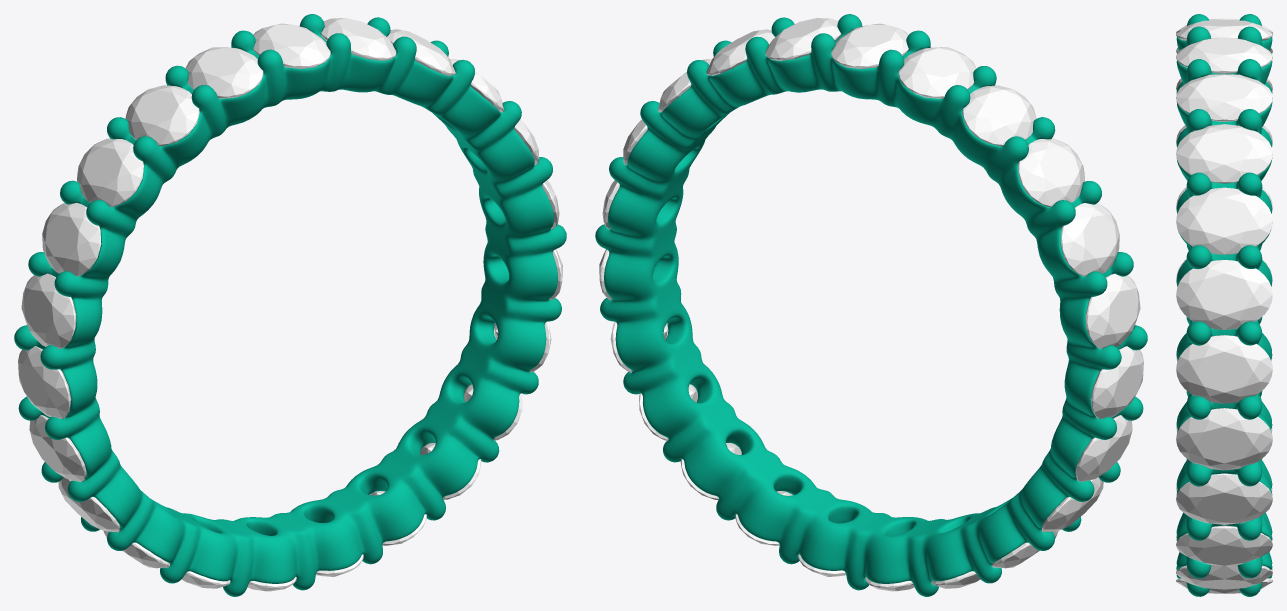
Rendered from BE2DOV200ELC_RENDER.glb.
The picture shows the model from 3 angles, left to right: view 1: azimuth 30°, elevation 25°; view 2: azimuth 150°, elevation 25°; view 3: azimuth 270°, elevation 25°; orthographic projection. The views are drawn at different scales.
Parts seen in each view (by area): view 1: Metal03, Diamond_Oval_Gem_BD.019, Diamond_Oval_Gem_BD.018, Diamond_Oval_Gem_BD.020, Diamond_Oval_Gem_BD.017, Diamond_Oval_Gem_BD.021, Diamond_Oval_Gem_BD.016, Diamond_Oval_Gem_BD.022, Diamond_Oval_Gem_BD.015, Diamond_Oval_Gem_BD, Diamond_Oval_Gem_BD.014, Diamond_Oval_Gem_BD.001; view 2: Metal03, Diamond_Oval_Gem_BD.019, Diamond_Oval_Gem_BD.018, Diamond_Oval_Gem_BD.020, Diamond_Oval_Gem_BD.017, Diamond_Oval_Gem_BD.021, Diamond_Oval_Gem_BD.016, Diamond_Oval_Gem_BD.022, Diamond_Oval_Gem_BD.015, Diamond_Oval_Gem_BD, Diamond_Oval_Gem_BD.014, Diamond_Oval_Gem_BD.001; view 3: Metal03, Diamond_Oval_Gem_BD.003, Diamond_Oval_Gem_BD.004, Diamond_Oval_Gem_BD.002, Diamond_Oval_Gem_BD.005, Diamond_Oval_Gem_BD.001, Diamond_Oval_Gem_BD.006, Diamond_Oval_Gem_BD, Diamond_Oval_Gem_BD.007, Diamond_Oval_Gem_BD.022, Diamond_Oval_Gem_BD.008, Diamond_Oval_Gem_BD.021 (+1 smaller).
Boxes of the visible parts, left/top/right/bottom form: Metal03: left=14, top=14, right=566, bottom=596; Diamond_Oval_Gem_BD.019: left=77, top=138, right=143, bottom=207; Diamond_Oval_Gem_BD.018: left=42, top=203, right=101, bottom=276; Diamond_Oval_Gem_BD.020: left=125, top=85, right=199, bottom=146; Diamond_Oval_Gem_BD.017: left=21, top=273, right=76, bottom=348; Diamond_Oval_Gem_BD.021: left=185, top=47, right=263, bottom=98; Diamond_Oval_Gem_BD.016: left=18, top=346, right=71, bottom=418; Diamond_Oval_Gem_BD.022: left=253, top=23, right=330, bottom=68; Diamond_Oval_Gem_BD.015: left=29, top=415, right=86, bottom=481; Diamond_Oval_Gem_BD: left=321, top=18, right=396, bottom=60; Diamond_Oval_Gem_BD.014: left=58, top=477, right=120, bottom=532; Diamond_Oval_Gem_BD.001: left=387, top=29, right=455, bottom=75; Metal03: left=595, top=14, right=1147, bottom=596; Diamond_Oval_Gem_BD.019: left=1018, top=138, right=1084, bottom=207; Diamond_Oval_Gem_BD.018: left=1061, top=203, right=1119, bottom=276; Diamond_Oval_Gem_BD.020: left=962, top=85, right=1036, bottom=146; Diamond_Oval_Gem_BD.017: left=1085, top=273, right=1140, bottom=348; Diamond_Oval_Gem_BD.021: left=898, top=47, right=976, bottom=98; Diamond_Oval_Gem_BD.016: left=1090, top=346, right=1143, bottom=418; Diamond_Oval_Gem_BD.022: left=831, top=23, right=908, bottom=68; Diamond_Oval_Gem_BD.015: left=1075, top=415, right=1132, bottom=481; Diamond_Oval_Gem_BD: left=765, top=18, right=841, bottom=60; Diamond_Oval_Gem_BD.014: left=1041, top=477, right=1103, bottom=532; Diamond_Oval_Gem_BD.001: left=706, top=29, right=774, bottom=75; Metal03: left=1176, top=14, right=1272, bottom=596; Diamond_Oval_Gem_BD.003: left=1176, top=260, right=1272, bottom=329; Diamond_Oval_Gem_BD.004: left=1176, top=335, right=1272, bottom=403; Diamond_Oval_Gem_BD.002: left=1176, top=187, right=1272, bottom=254; Diamond_Oval_Gem_BD.005: left=1176, top=408, right=1272, bottom=470; Diamond_Oval_Gem_BD.001: left=1176, top=124, right=1272, bottom=183; Diamond_Oval_Gem_BD.006: left=1176, top=473, right=1272, bottom=524; Diamond_Oval_Gem_BD: left=1176, top=74, right=1272, bottom=121; Diamond_Oval_Gem_BD.007: left=1176, top=525, right=1272, bottom=565; Diamond_Oval_Gem_BD.022: left=1176, top=37, right=1272, bottom=73; Diamond_Oval_Gem_BD.008: left=1176, top=565, right=1272, bottom=589; Diamond_Oval_Gem_BD.021: left=1176, top=19, right=1272, bottom=40.
Size of the model in its own units: 20.82 by 20.78 by 3.45.
